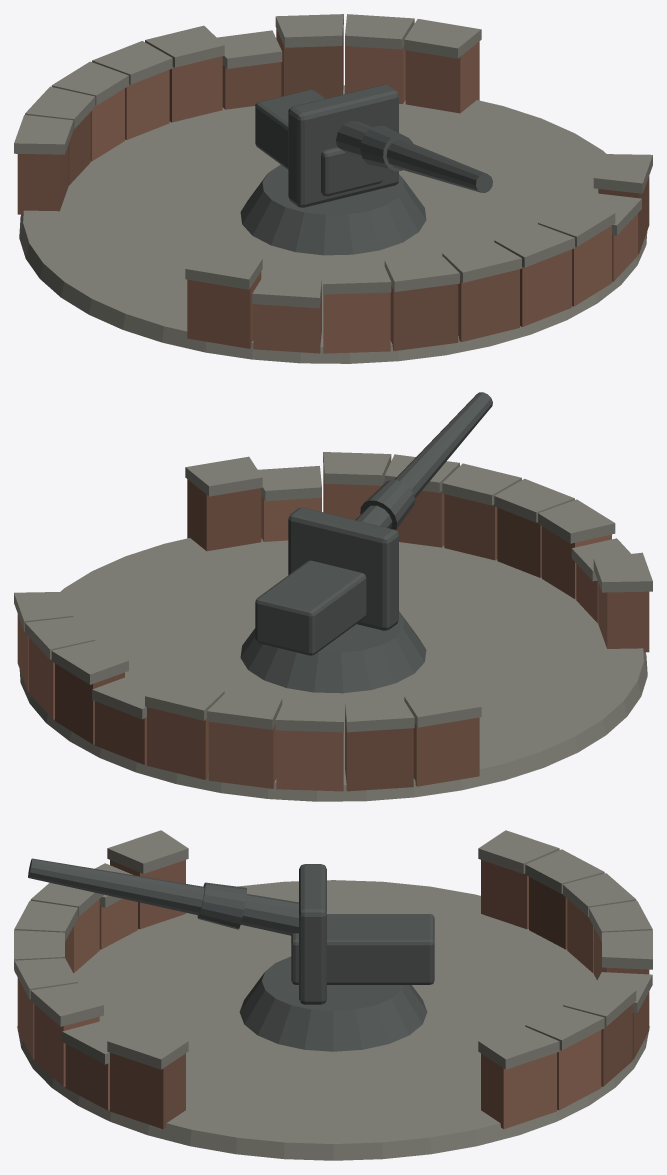
Rendered from BatteryEmplacement.fbx.
3 views of the same model, one above another, from view 1: azimuth 30°, elevation 25°; view 2: azimuth 150°, elevation 25°; view 3: azimuth 270°, elevation 25° (orthographic).
Visible parts, largest first — view 1: BatteryEmplacement; view 2: BatteryEmplacement; view 3: BatteryEmplacement.
Boxes of the visible parts, x1,y1,x2,y2 form: BatteryEmplacement: (14, 14, 652, 363); BatteryEmplacement: (14, 392, 652, 801); BatteryEmplacement: (14, 830, 652, 1160).
Bounding box in the file's own units: 4.94 × 1.45 × 4.99.
